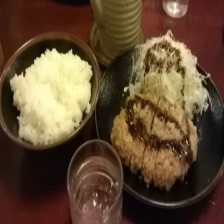rice: (10, 48, 93, 145)
